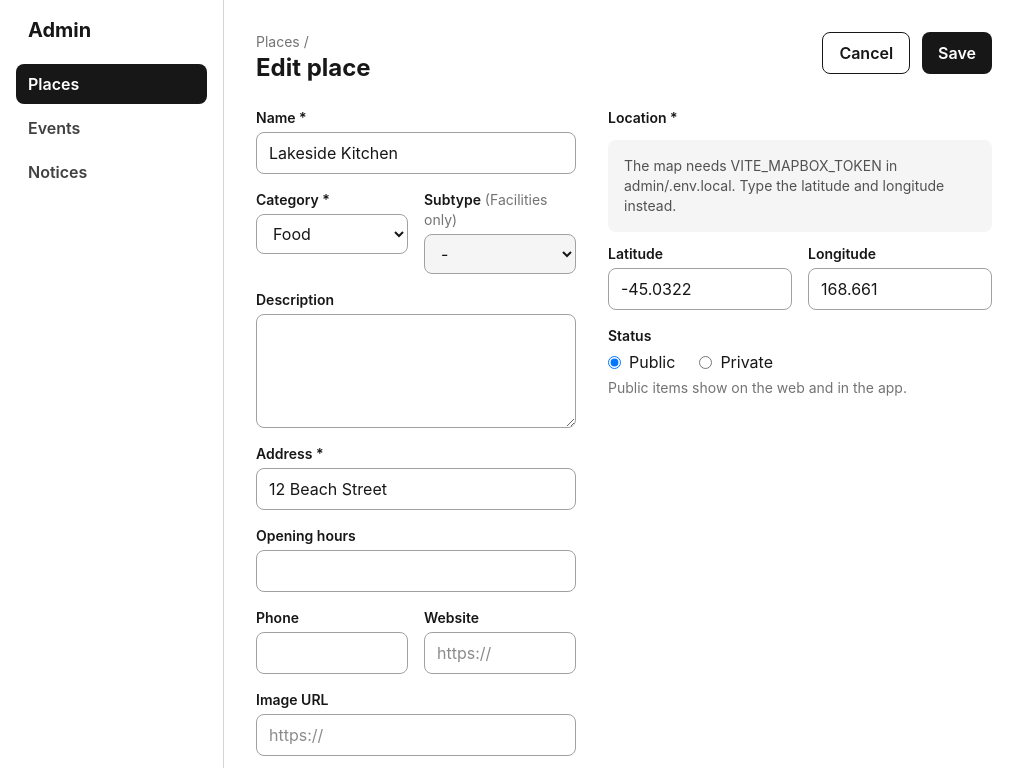
Scenario: an existing place is loaded, and the server's field errors show under their fields
This screenshot has width=1024, height=768.
Check: the field showing "Lakeside Kitchen" is shown, box [256,132,576,174]
Check: the heading "Edit place" is shown, box [256,52,371,84]
Step 1. Type "ftp://x" into the field labelled "Website" → (500, 653), box [424,632,576,674]
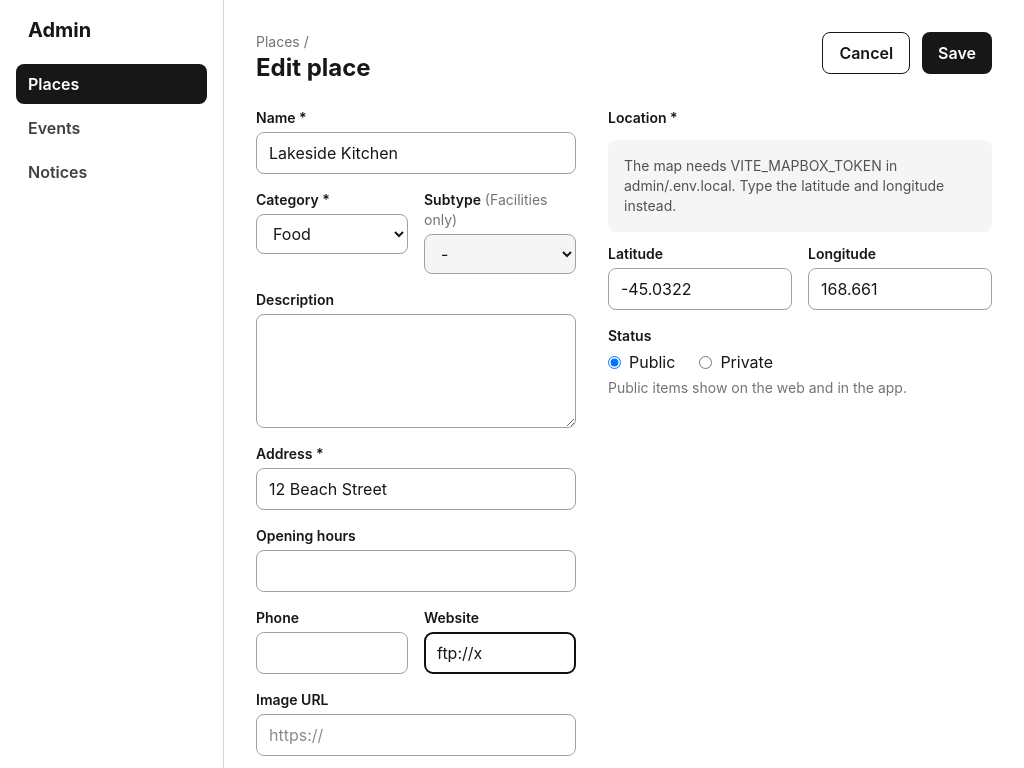
Step 2. Click the radio button labelled "Private" → (706, 362), box [699,356,712,368]
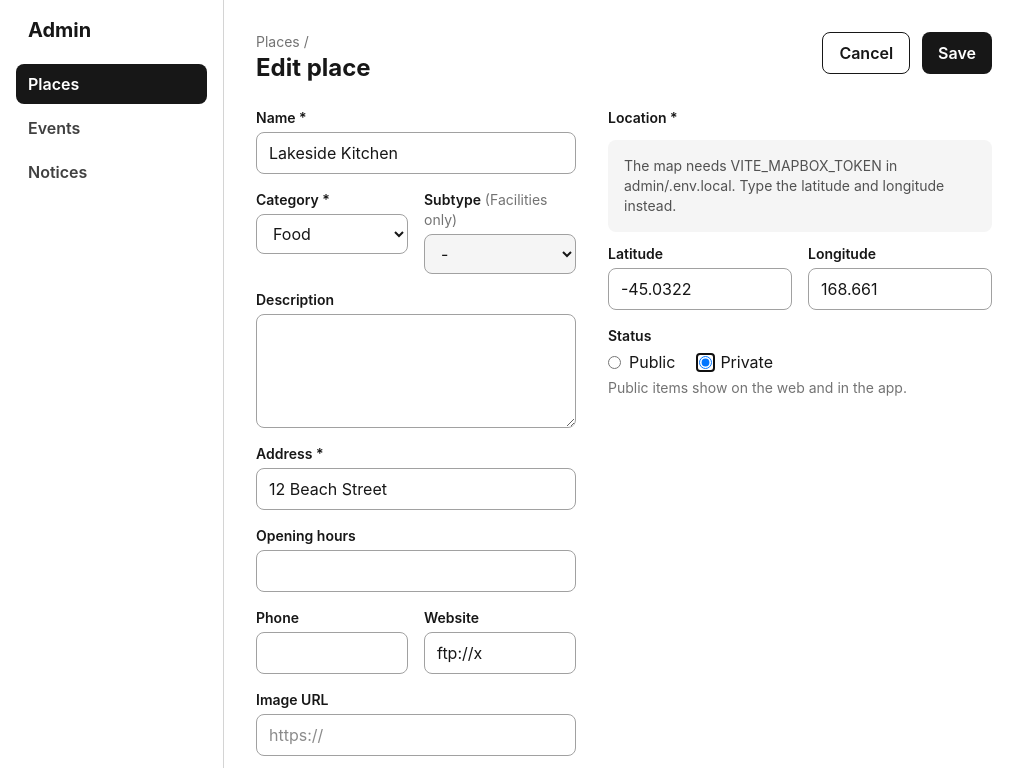
Step 3. Click the button "Save" → (957, 53), box [922,32,992,74]
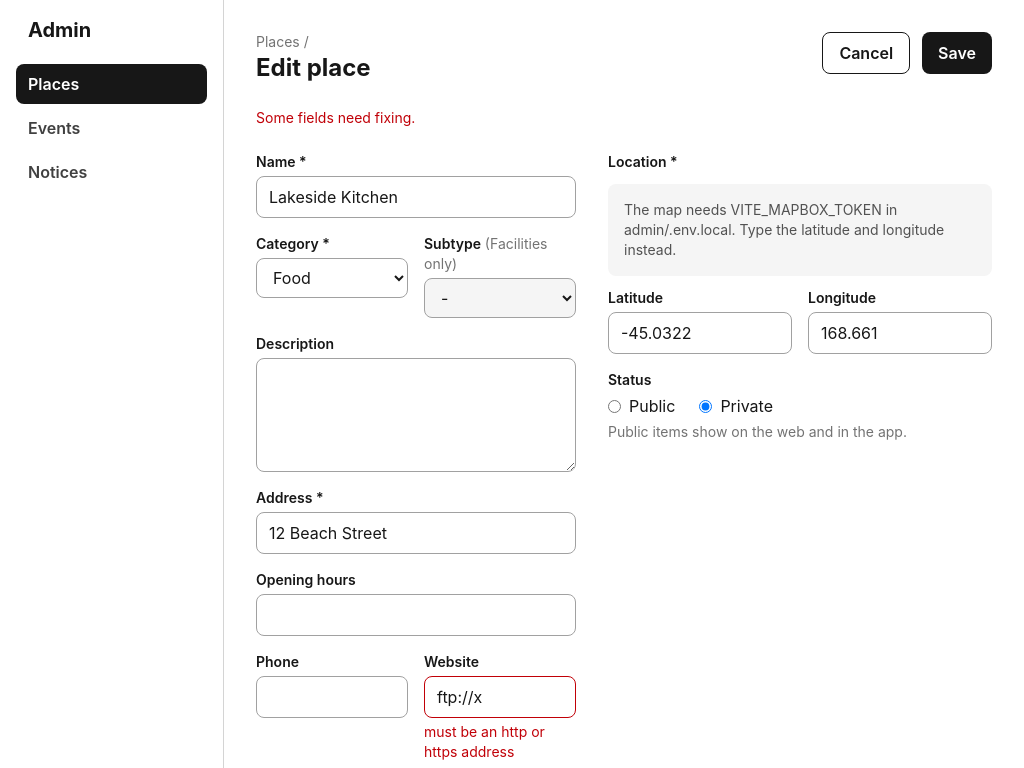
Check: the text "must be an http or https address" is shown, box [424,723,545,760]
